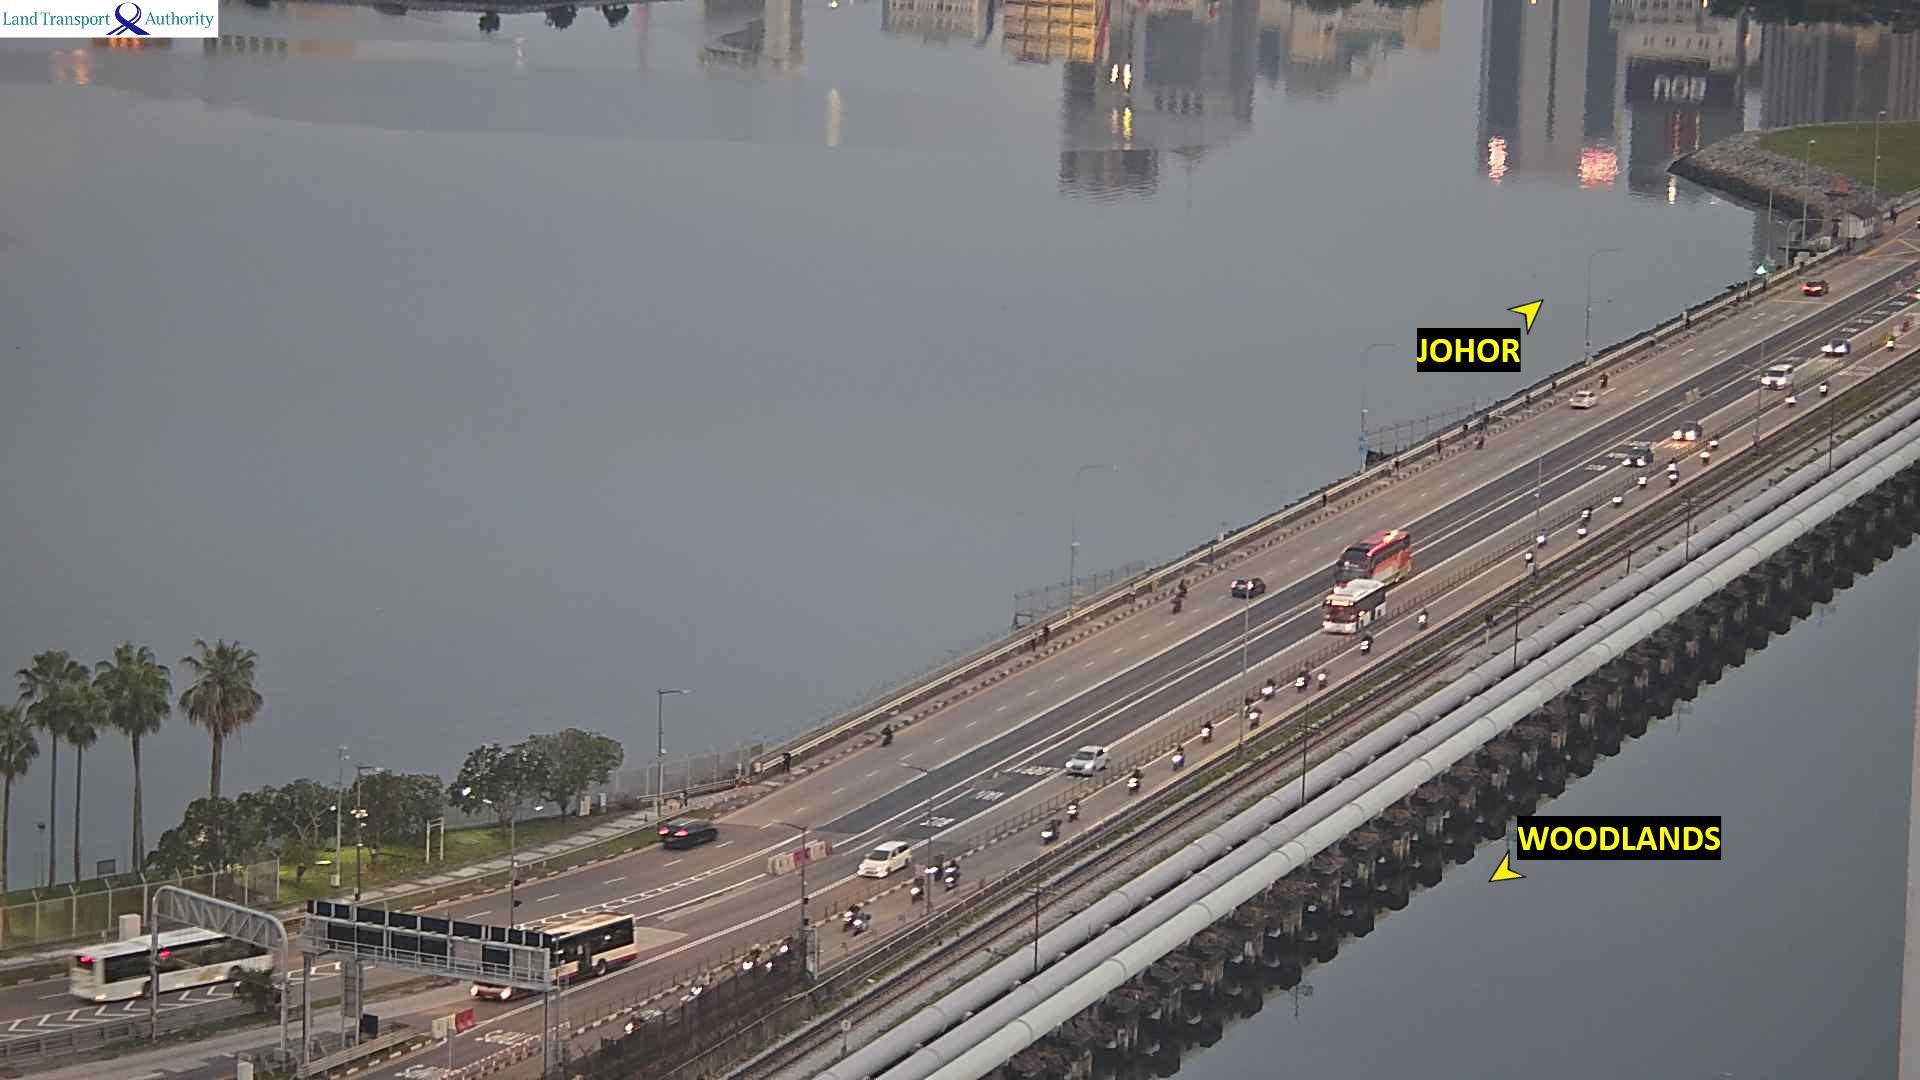vehicle-causeway-johor: (70, 924, 273, 1000), (659, 818, 719, 852), (1232, 576, 1266, 597), (1568, 390, 1597, 409), (1804, 280, 1829, 294), (880, 723, 891, 745), (1171, 593, 1180, 615), (1179, 579, 1187, 597), (1476, 431, 1484, 448), (1601, 372, 1606, 388), (1917, 216, 1920, 228)
vehicle-causeway-singapore: (471, 911, 636, 998), (1337, 527, 1412, 585), (1323, 580, 1386, 634), (858, 840, 913, 881), (1068, 745, 1112, 778), (1762, 364, 1793, 389), (1672, 419, 1704, 442), (943, 858, 961, 891), (1623, 448, 1654, 467), (1042, 819, 1063, 845), (1824, 339, 1850, 357), (843, 903, 860, 930), (853, 911, 872, 935), (926, 856, 943, 881), (1127, 767, 1143, 794), (910, 878, 924, 903), (1172, 742, 1185, 769), (1667, 458, 1679, 487), (1200, 720, 1215, 742), (1298, 666, 1311, 690), (1360, 632, 1373, 654), (1067, 799, 1080, 822), (1262, 678, 1276, 698), (1251, 705, 1262, 728), (1418, 607, 1428, 628), (1320, 667, 1329, 691), (1785, 392, 1797, 407), (1698, 450, 1710, 465), (1538, 527, 1545, 547), (1709, 434, 1720, 448), (1887, 334, 1895, 351), (1577, 522, 1586, 537), (1639, 473, 1647, 489), (1611, 496, 1623, 506), (1580, 508, 1592, 518), (1523, 551, 1531, 566), (1822, 380, 1829, 396)
